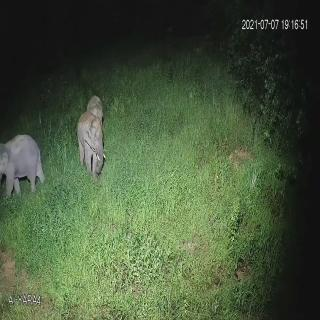Elephant: (0, 128, 47, 202), (75, 109, 114, 176)
